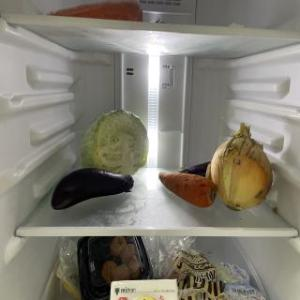cabbage: (81, 110, 150, 176)
carrot: (48, 2, 142, 26), (158, 172, 216, 210)
eggplant: (51, 168, 133, 212), (178, 162, 215, 178)
onion: (210, 126, 276, 208)
